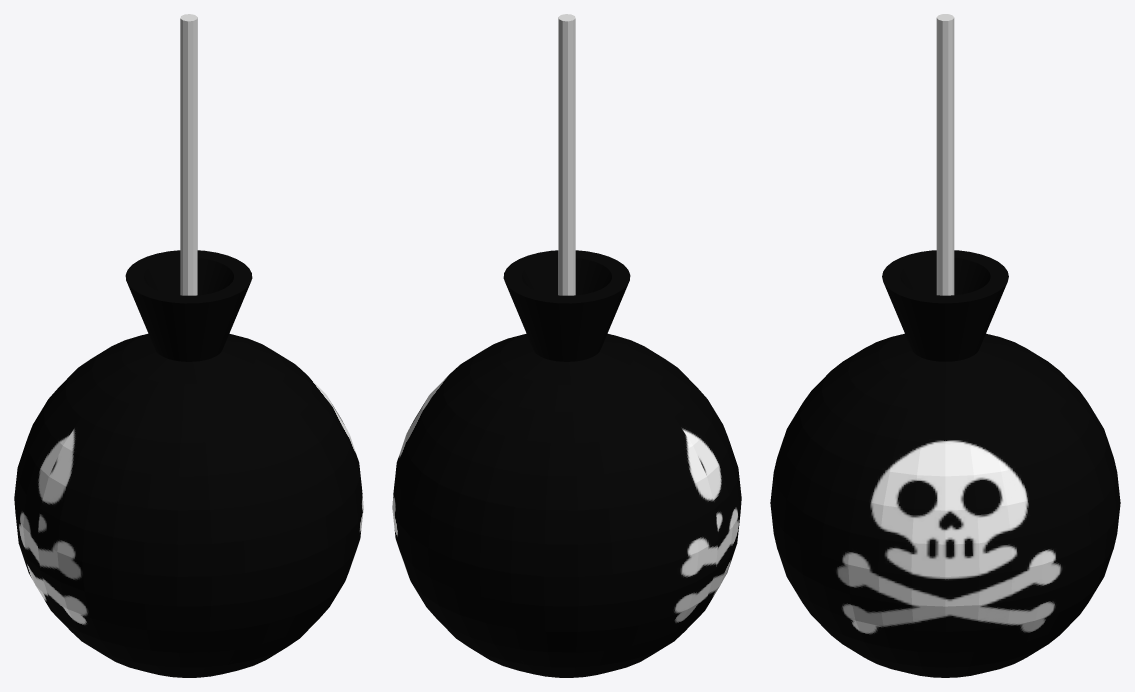
The model's file is Bomb.fbx.
The picture shows the model from 3 angles, left to right: view 1: azimuth 30°, elevation 25°; view 2: azimuth 150°, elevation 25°; view 3: azimuth 270°, elevation 25°; orthographic projection.
Parts seen in each view (by area): view 1: Sphere, Cylinder; view 2: Sphere, Cylinder; view 3: Sphere, Cylinder.
Part boxes in pixels (box(x1,y1,x2,y2)): Sphere: box(14, 250, 363, 677); Cylinder: box(180, 14, 197, 295); Sphere: box(392, 250, 741, 677); Cylinder: box(558, 14, 575, 295); Sphere: box(770, 250, 1120, 677); Cylinder: box(936, 14, 954, 295).
Size of the model in its own units: 200 by 406 by 200.
